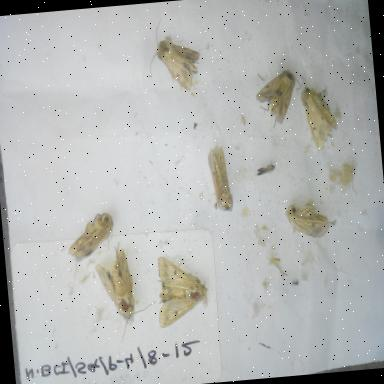abw: (90, 242, 160, 348), (150, 248, 214, 334), (143, 12, 205, 98), (293, 70, 348, 157), (249, 61, 308, 134), (62, 208, 120, 267), (274, 197, 342, 247), (202, 140, 239, 215)
